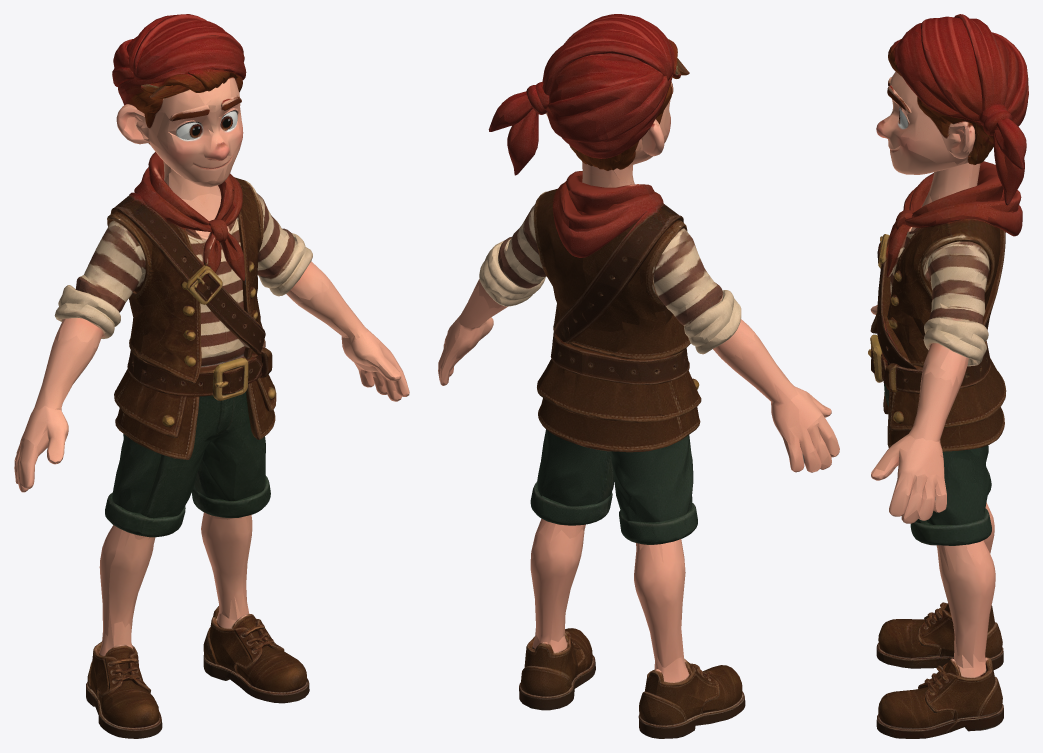
File: dan_pirate.fbx
3 views of the same model, side by side, from view 1: azimuth 30°, elevation 25°; view 2: azimuth 150°, elevation 25°; view 3: azimuth 270°, elevation 25° (orthographic).
Parts seen in each view (by area): view 1: dan_pirate; view 2: dan_pirate; view 3: dan_pirate.
Boxes of the visible parts, <box> form: dan_pirate: <box>14,14,409,738</box>; dan_pirate: <box>438,14,839,738</box>; dan_pirate: <box>868,14,1028,738</box>.
Bounding box in the file's own units: 1.08 × 1.8 × 0.3925.
1 material, 1 textured.
